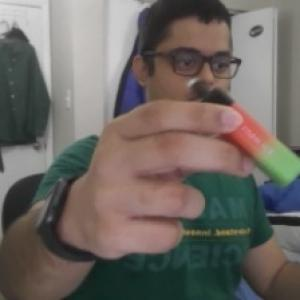Swift-E-Ciggirate: (174, 77, 300, 189)
